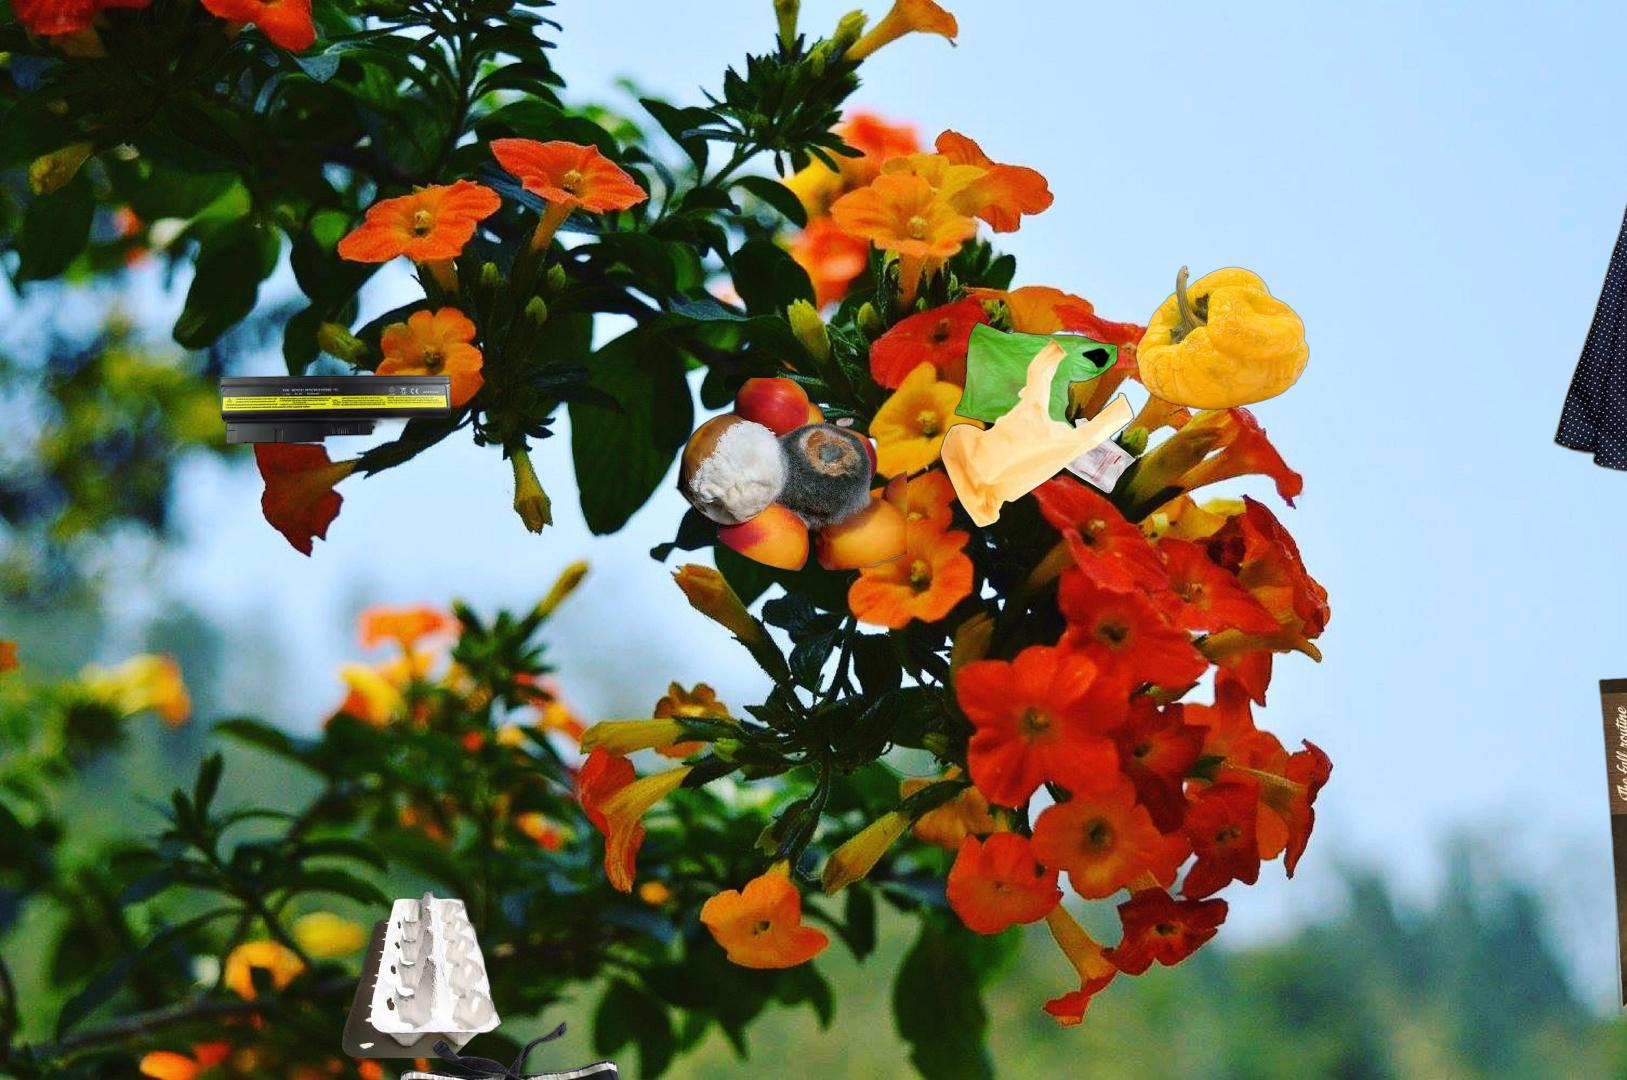battery: (218, 372, 456, 447)
biological: (675, 378, 908, 573), (1133, 263, 1310, 413)
clothes: (330, 952, 728, 1080), (1551, 92, 1627, 499)
paper: (1594, 661, 1627, 1015)
plastic-bag: (936, 319, 1140, 532)
trashbox-cardboard: (339, 887, 505, 1061)
